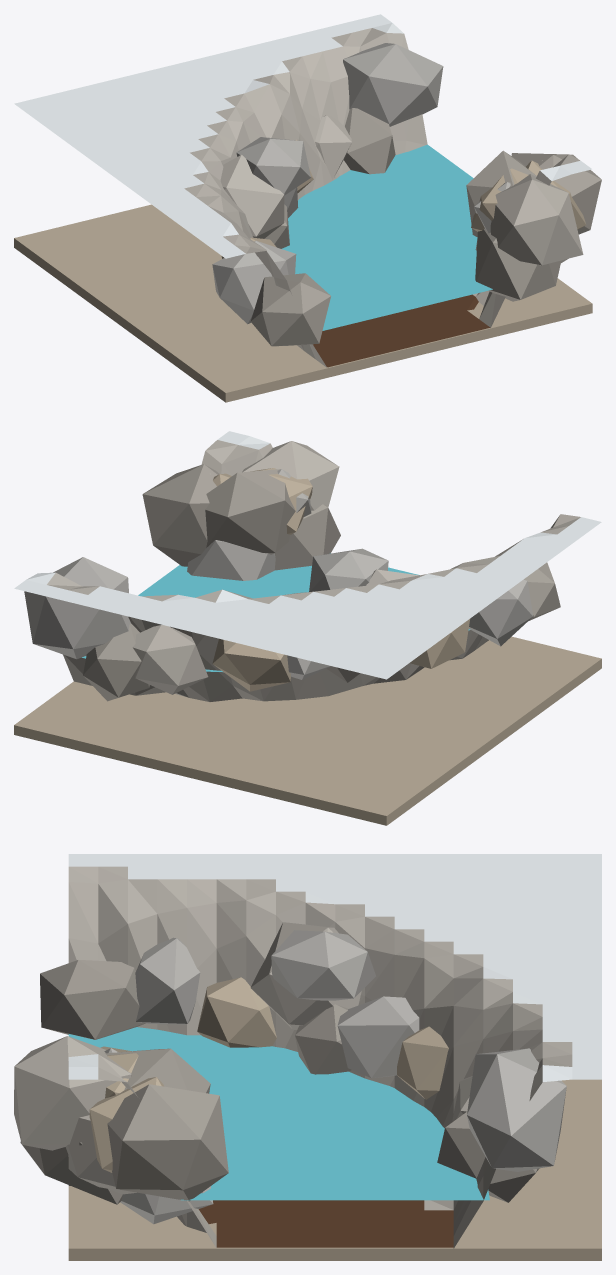
The model's file is stream_bend.glb.
3 views of the same model, one above another, from view 1: azimuth 30°, elevation 25°; view 2: azimuth 150°, elevation 25°; view 3: azimuth 270°, elevation 25° (orthographic). The views are drawn at different scales.
Visible parts, largest first — view 1: stream_bend, part_flow; view 2: stream_bend, part_flow; view 3: stream_bend, part_flow.
Part boxes in pixels (bbox=[...]): stream_bend: bbox=[14, 14, 601, 402]; part_flow: bbox=[282, 144, 492, 330]; stream_bend: bbox=[14, 431, 601, 825]; part_flow: bbox=[82, 553, 470, 672]; stream_bend: bbox=[14, 854, 601, 1260]; part_flow: bbox=[68, 1027, 489, 1200].
Size of the model in its own units: 2.18 by 0.8012 by 2.2.
